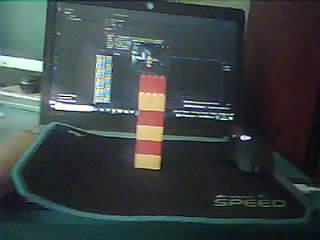lego: (133, 74, 166, 170)
